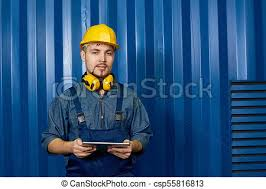Person_wearing_helmet: (75, 21, 122, 58)
